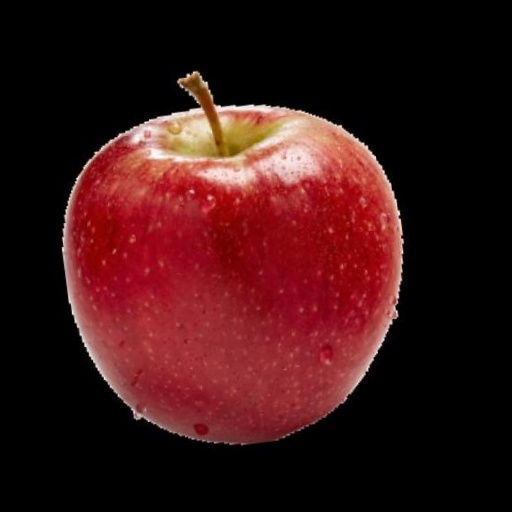fruit: (63, 75, 401, 442)
